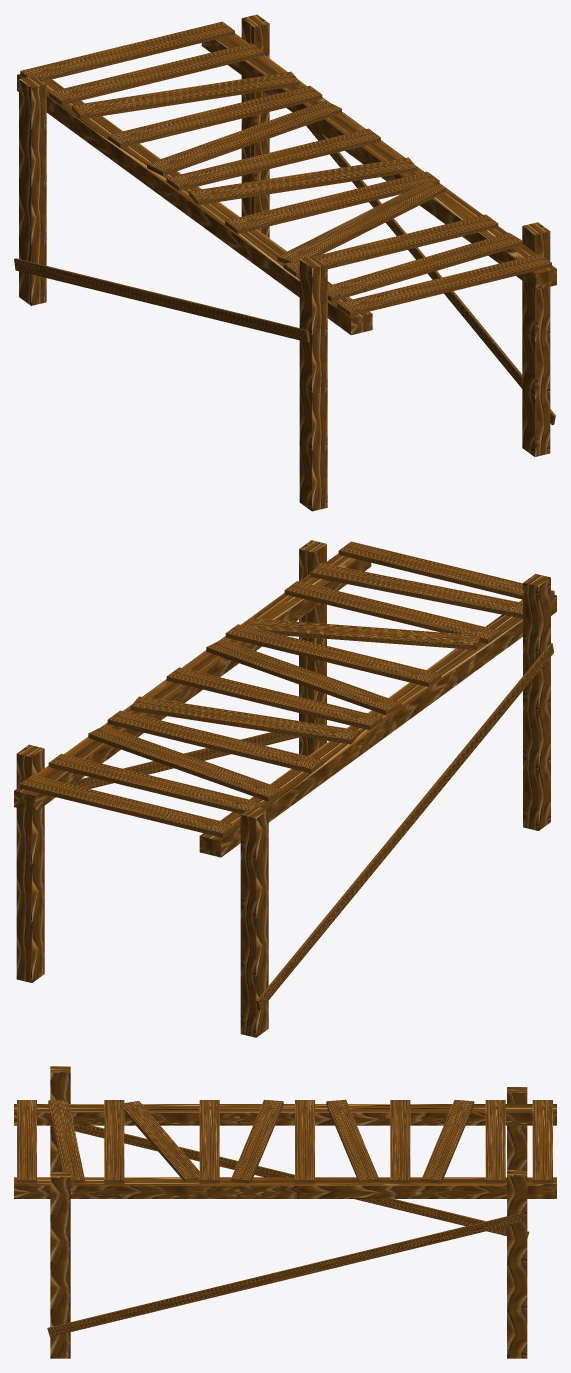
File: scaffolding.FBX
The picture shows the model from 3 angles, top to bottom: view 1: azimuth 30°, elevation 25°; view 2: azimuth 150°, elevation 25°; view 3: azimuth 270°, elevation 25°; orthographic projection. The views are drawn at different scales.
Parts seen in each view (by area): view 1: scaffolding; view 2: scaffolding; view 3: scaffolding.
Part boxes in pixels (x1,y1,x2,y2): scaffolding: (14, 14, 556, 511); scaffolding: (14, 540, 556, 1037); scaffolding: (14, 1066, 556, 1358).
Bounding box in the file's own units: 95.58 × 90.43 × 225.
Materials: 1 (1 with a texture image).
